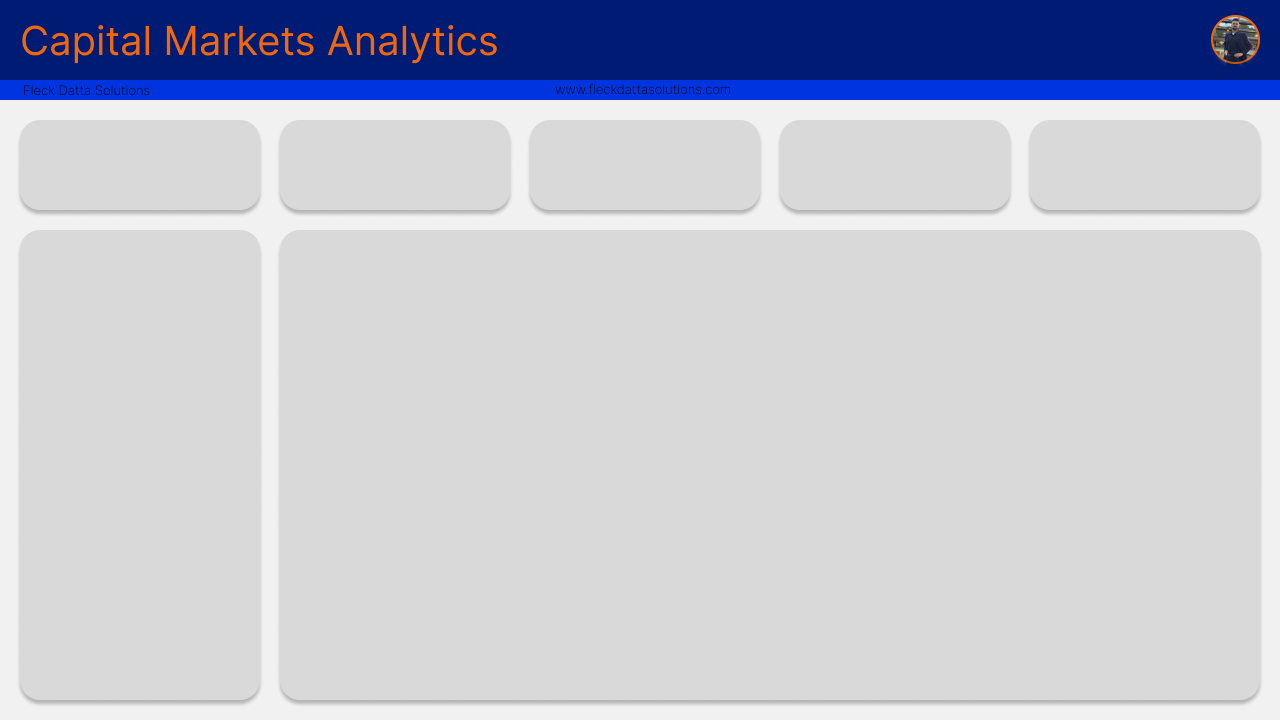

The dashboard page shown, as its layout file describes it:
{"tool":"powerbi","page":{"name":"Cover","canvas":[1280,720],"ordinal":0},"visuals":[{"type":"tableEx","fields":{"Values":["aux_table.ticker","aux_table.link_logo"]},"box":[312.4,162.8,534.3,237.6],"z":0}]}

Visuals, with their boxes in screenshot pixels (x1, y1, x2, y2), scaled from the page's 1280x720 canvas onto the 1280x720 screenshot:
tableEx - aux_table.ticker x aux_table.link_logo: 312:163:847:400
